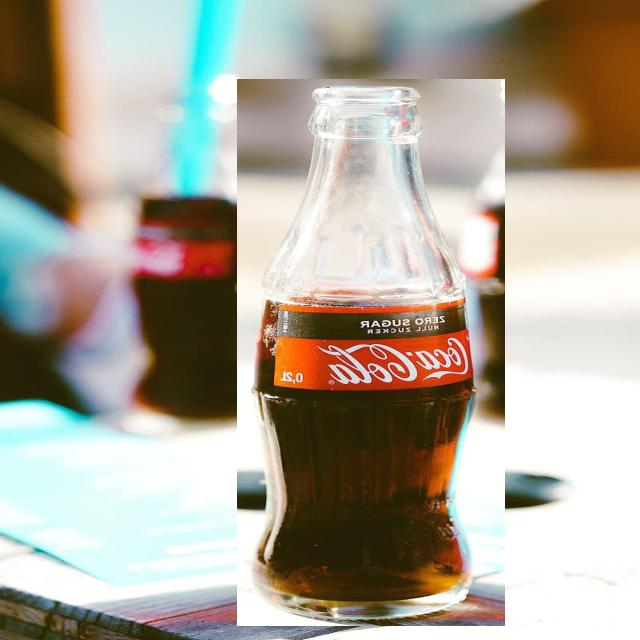coca-cola: (237, 79, 505, 626)
